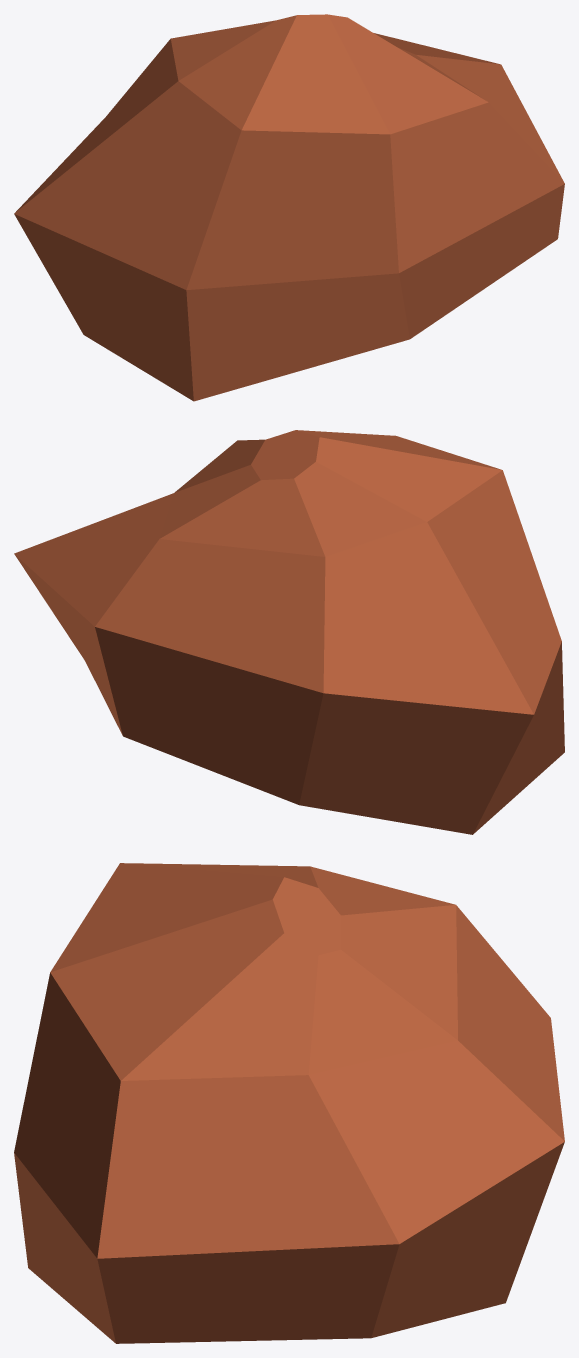
File: SM_Rock_B.fbx
The picture shows the model from 3 angles, top to bottom: view 1: azimuth 30°, elevation 25°; view 2: azimuth 150°, elevation 25°; view 3: azimuth 270°, elevation 25°; orthographic projection. The views are drawn at different scales.
Parts seen in each view (by area): view 1: Rock_B; view 2: Rock_B; view 3: Rock_B.
Part boxes in pixels (bbox=[...]): Rock_B: bbox=[14, 14, 564, 401]; Rock_B: bbox=[14, 430, 564, 834]; Rock_B: bbox=[14, 863, 564, 1343].
Size of the model in its own units: 408 by 281 by 242.
